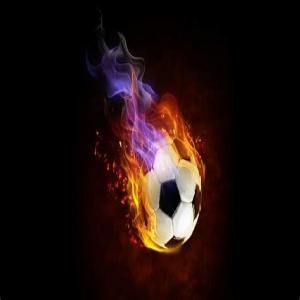Football: (140, 134, 202, 252)
